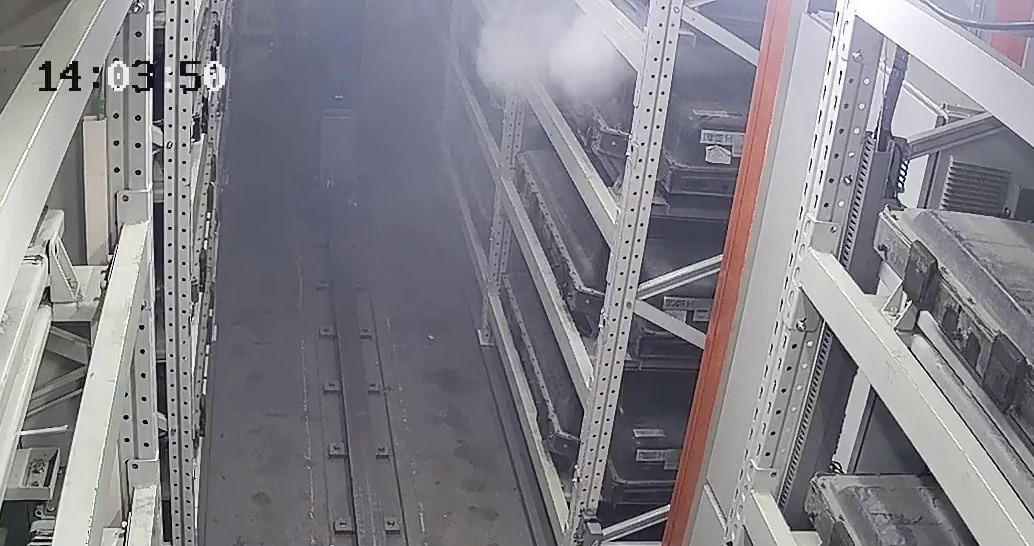smoke: (475, 9, 622, 99)
